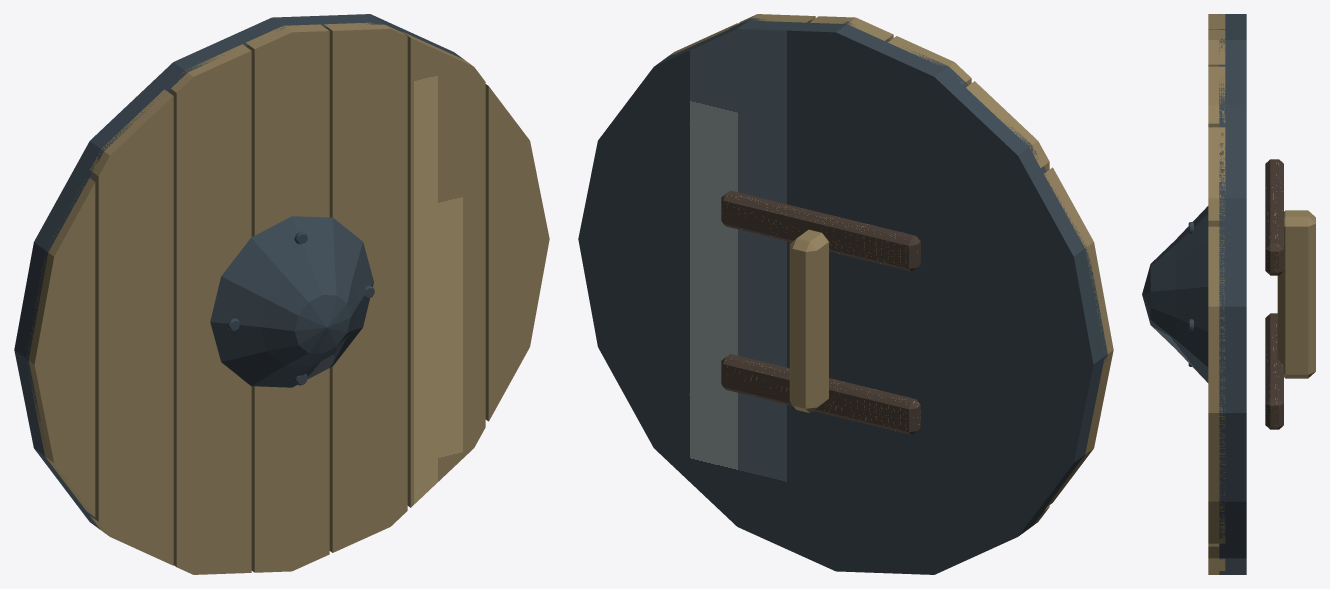
File: shield-quiet.glb
3 renders of one model, left to right at view 1: azimuth 30°, elevation 25°; view 2: azimuth 150°, elevation 25°; view 3: azimuth 270°, elevation 25°, orthographic. The views are drawn at different scales.
Visible parts, largest first — view 1: shield-quiet runtime mesh; view 2: shield-quiet runtime mesh; view 3: shield-quiet runtime mesh.
Boxes of the visible parts, box(x1,y1,x2,y2) form: shield-quiet runtime mesh: box(14, 14, 549, 574); shield-quiet runtime mesh: box(578, 14, 1113, 574); shield-quiet runtime mesh: box(1142, 14, 1315, 574).
Bounding box in the file's own units: 0.66 × 0.66 × 0.2045.
3 materials, 3 textured.
